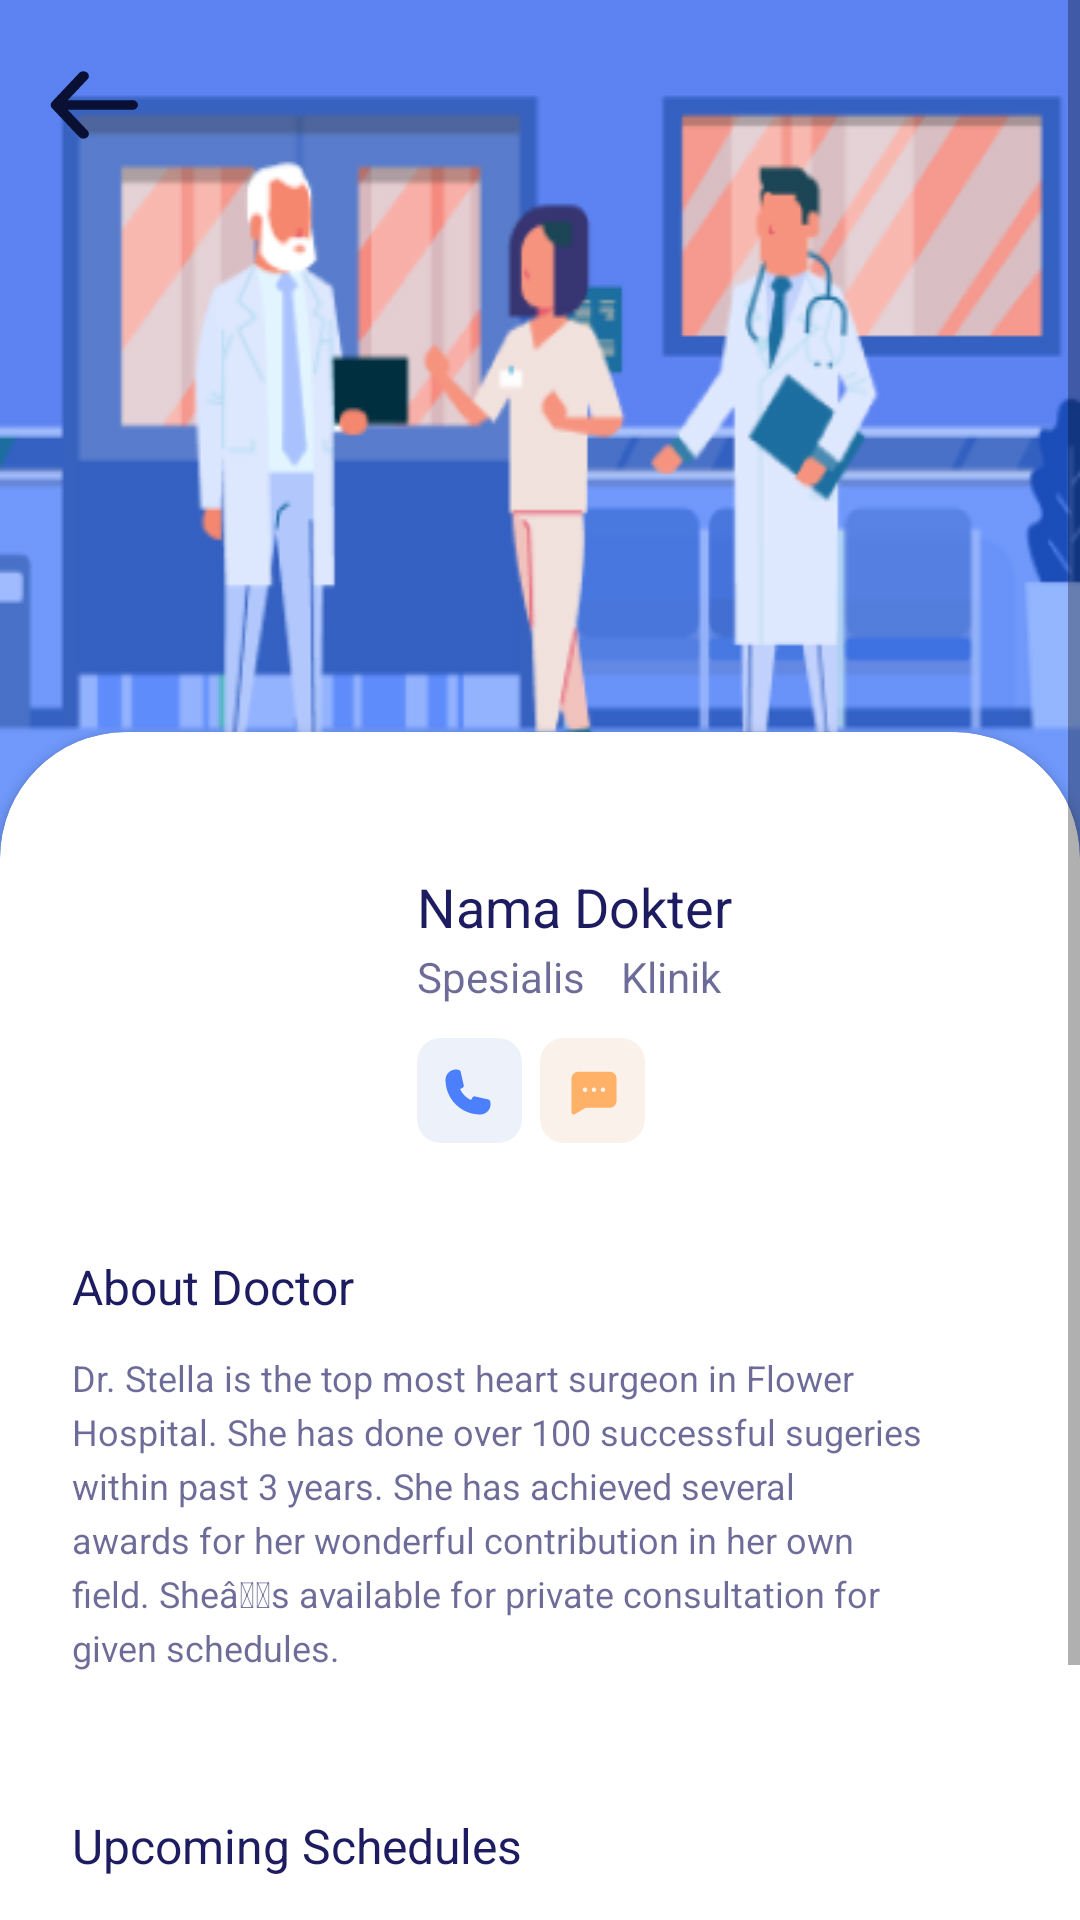

Named icons in this screenshot (1080x1920) and their bounding boxes, (x1,y1,x2,y2):
backicon: (50,71,138,141)
chat: (571,1071,617,1115)
telp: (417,1038,522,1143)
